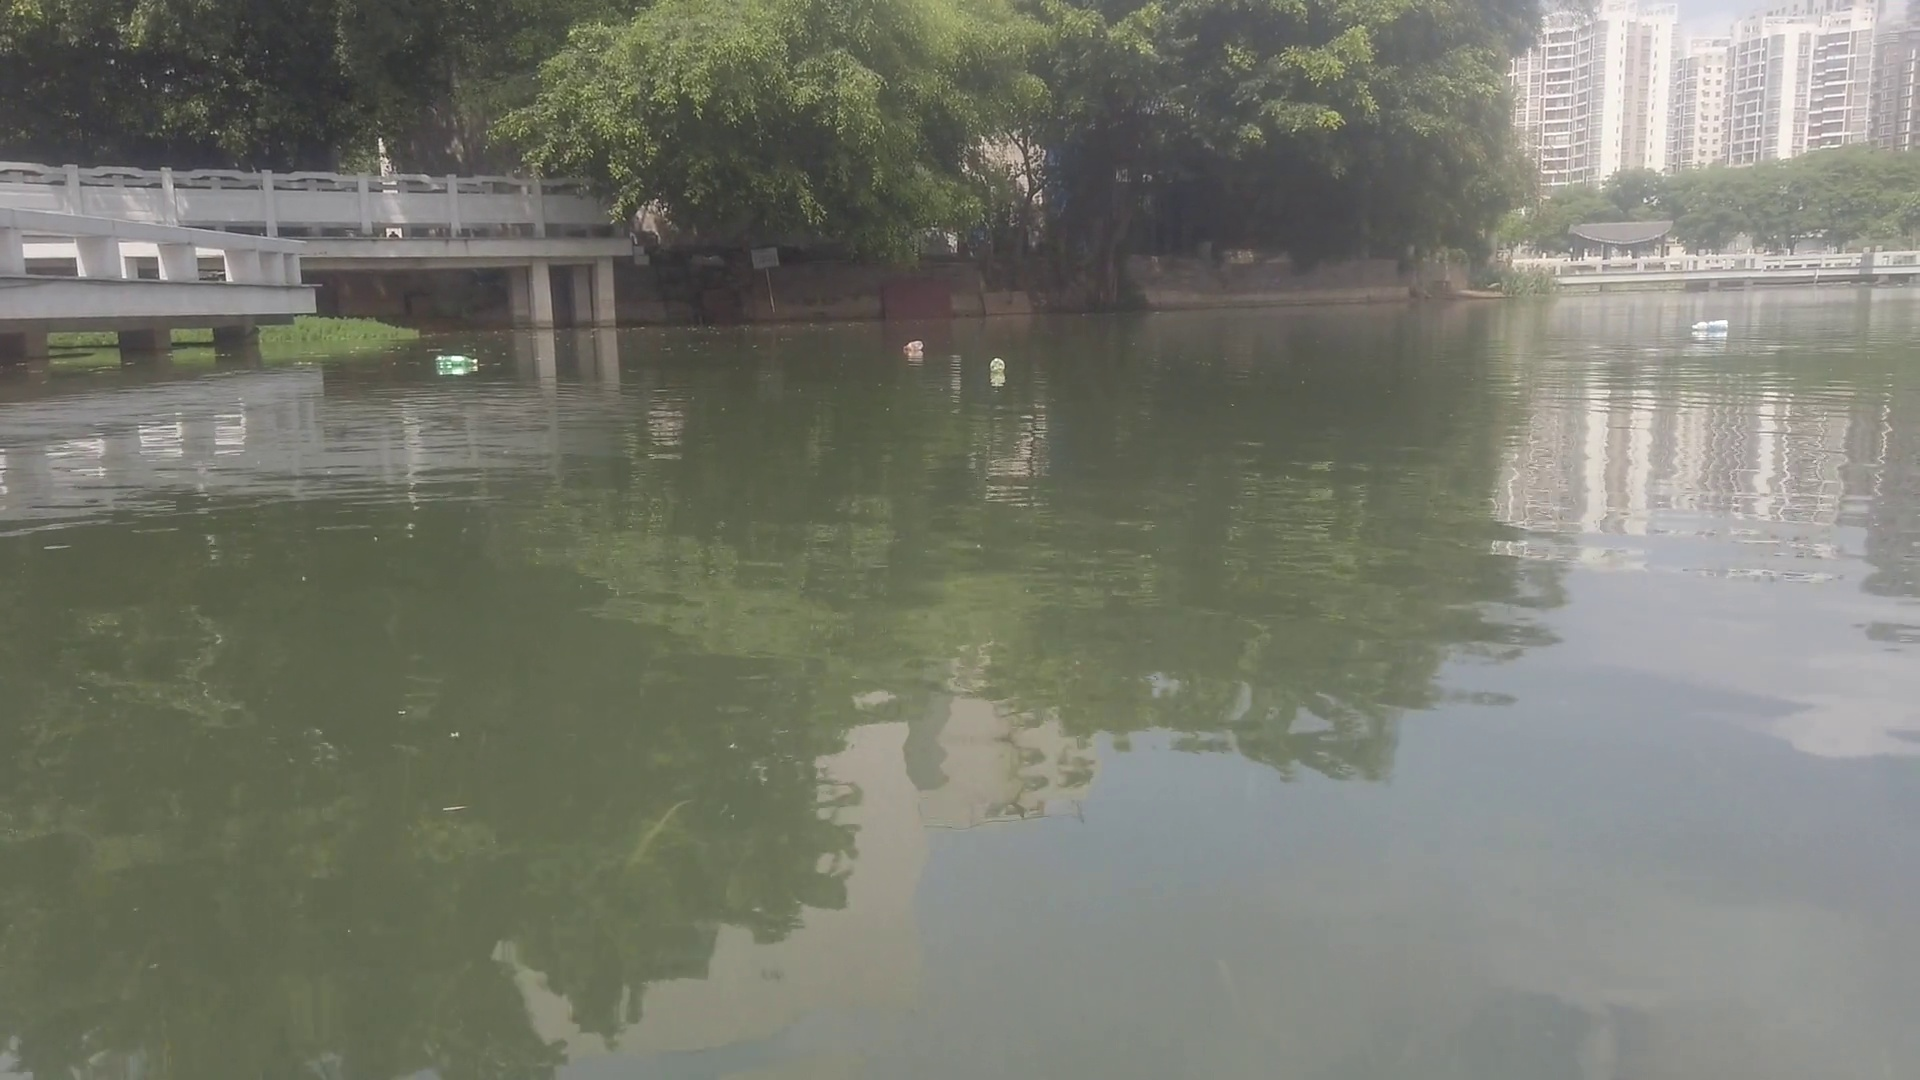bottle: (1687, 314, 1727, 332), (431, 352, 477, 367), (901, 338, 927, 353), (986, 357, 1006, 375)
